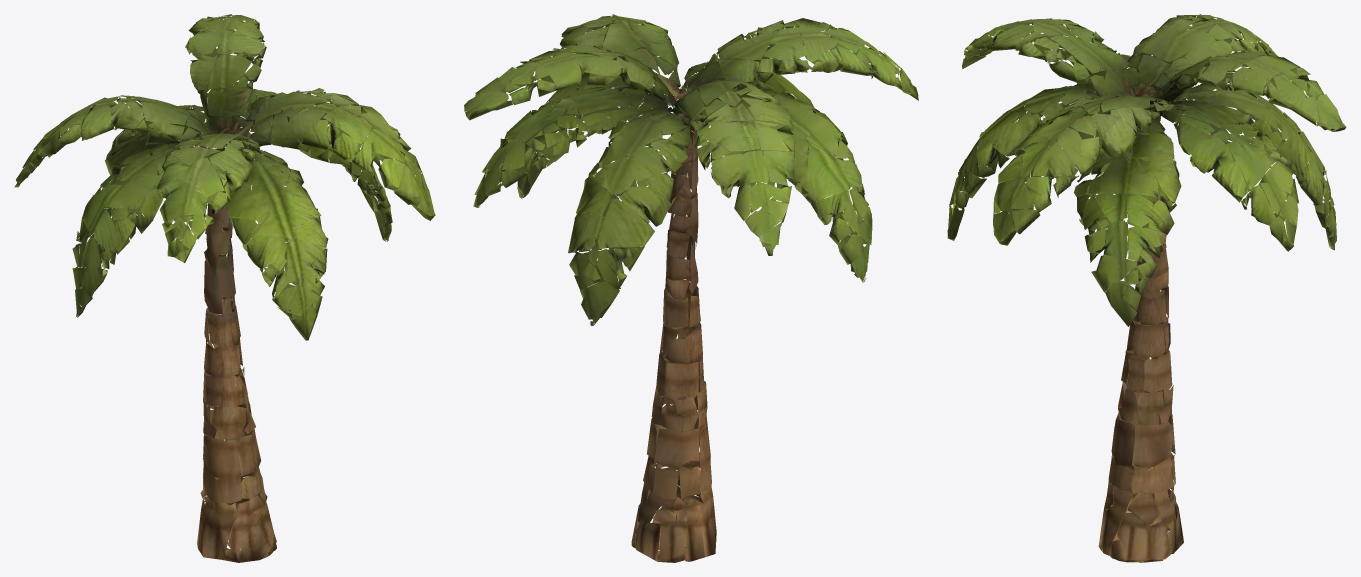
Rendered from palm-a.glb.
3 renders of one model, left to right at view 1: azimuth 30°, elevation 25°; view 2: azimuth 150°, elevation 25°; view 3: azimuth 270°, elevation 25°, orthographic. The views are drawn at different scales.
Parts seen in each view (by area): view 1: Mesh_0; view 2: Mesh_0; view 3: Mesh_0.
Boxes of the visible parts, x1,y1,x2,y2 form: Mesh_0: (14, 14, 435, 562); Mesh_0: (464, 14, 918, 562); Mesh_0: (947, 14, 1346, 562).
Size of the model in its own units: 6.94 by 10.02 by 7.15.
1 material, 1 textured.
